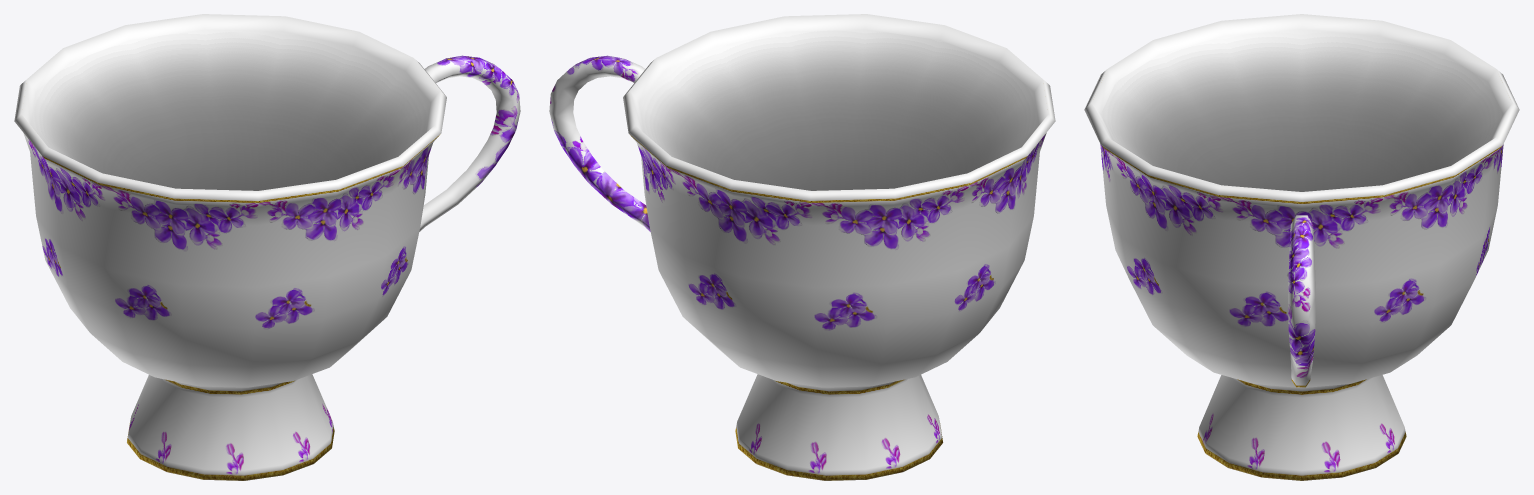
The model's file is Teacup.fbx.
3 renders of one model, left to right at view 1: azimuth 30°, elevation 25°; view 2: azimuth 150°, elevation 25°; view 3: azimuth 270°, elevation 25°, orthographic.
Visible parts, largest first — view 1: Teacup; view 2: Teacup; view 3: Teacup.
Boxes of the visible parts, x1,y1,x2,y2 form: Teacup: (14, 14, 520, 480); Teacup: (549, 14, 1055, 480); Teacup: (1084, 14, 1519, 480).
Size of the model in its own units: 3.1 by 2.09 by 2.47.
